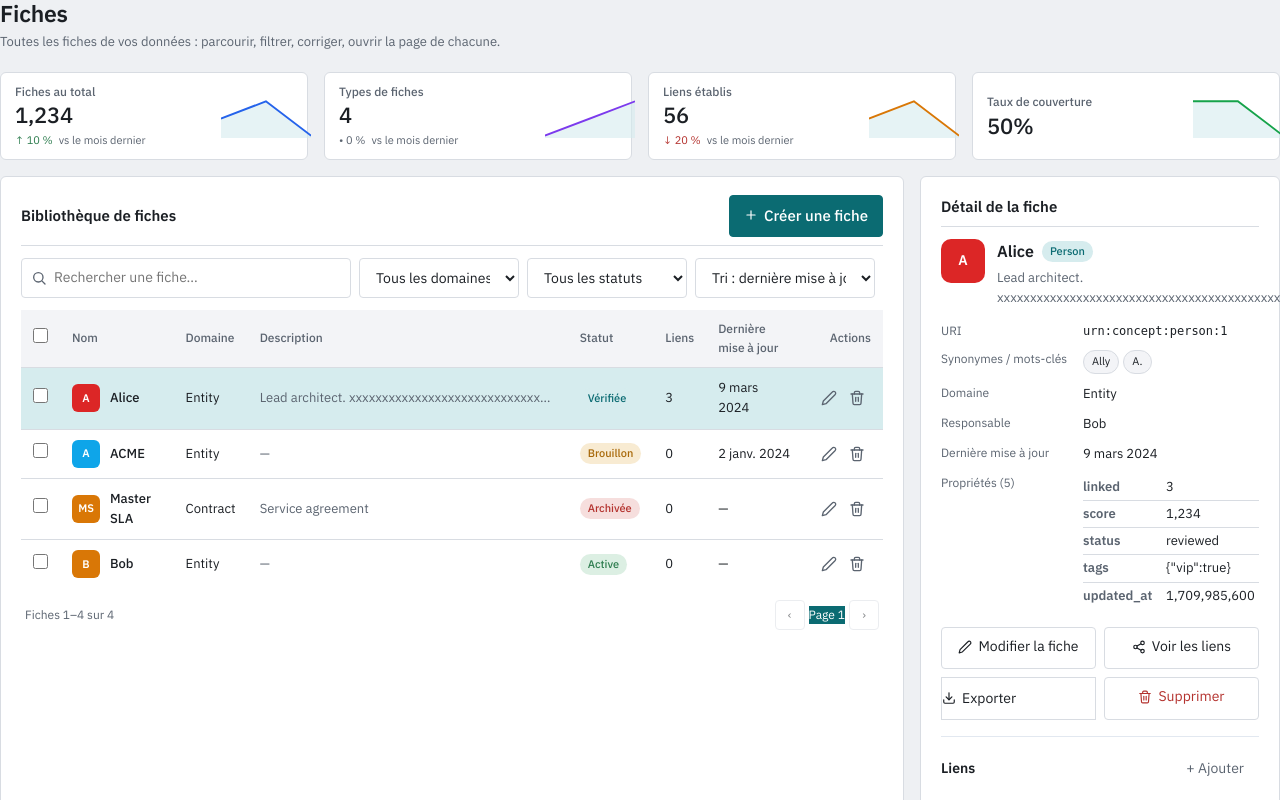
Test case: Concepts page — selection and bulk delete › bulk-deletes the ticked concepts only after confirmation, then refreshes the list
Expected: the text "Alice" is shown, [110,388,140,408]
Click the checkbox named "Sélectionner la fiche Alice": (40, 395) [33,388,48,403]
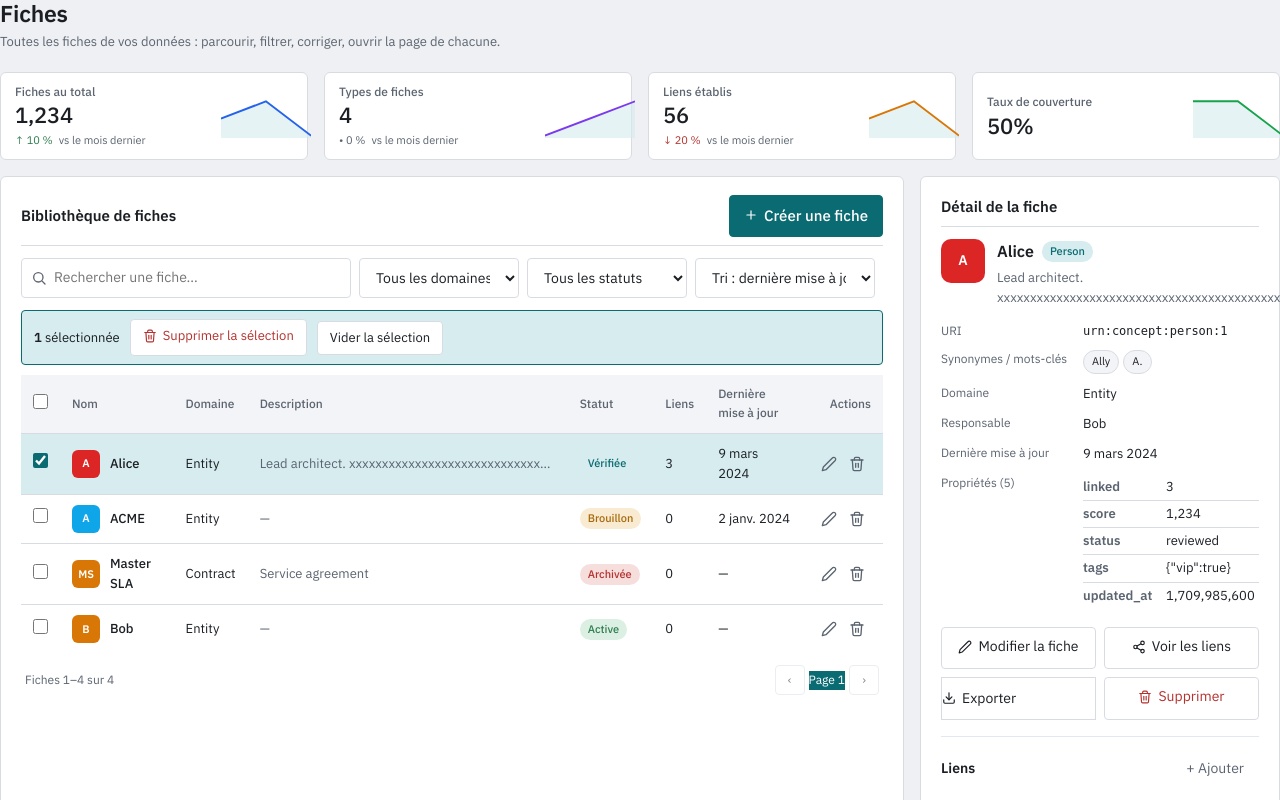
Click the checkbox named "Sélectionner la fiche ACME": (40, 516) [33,508,48,523]
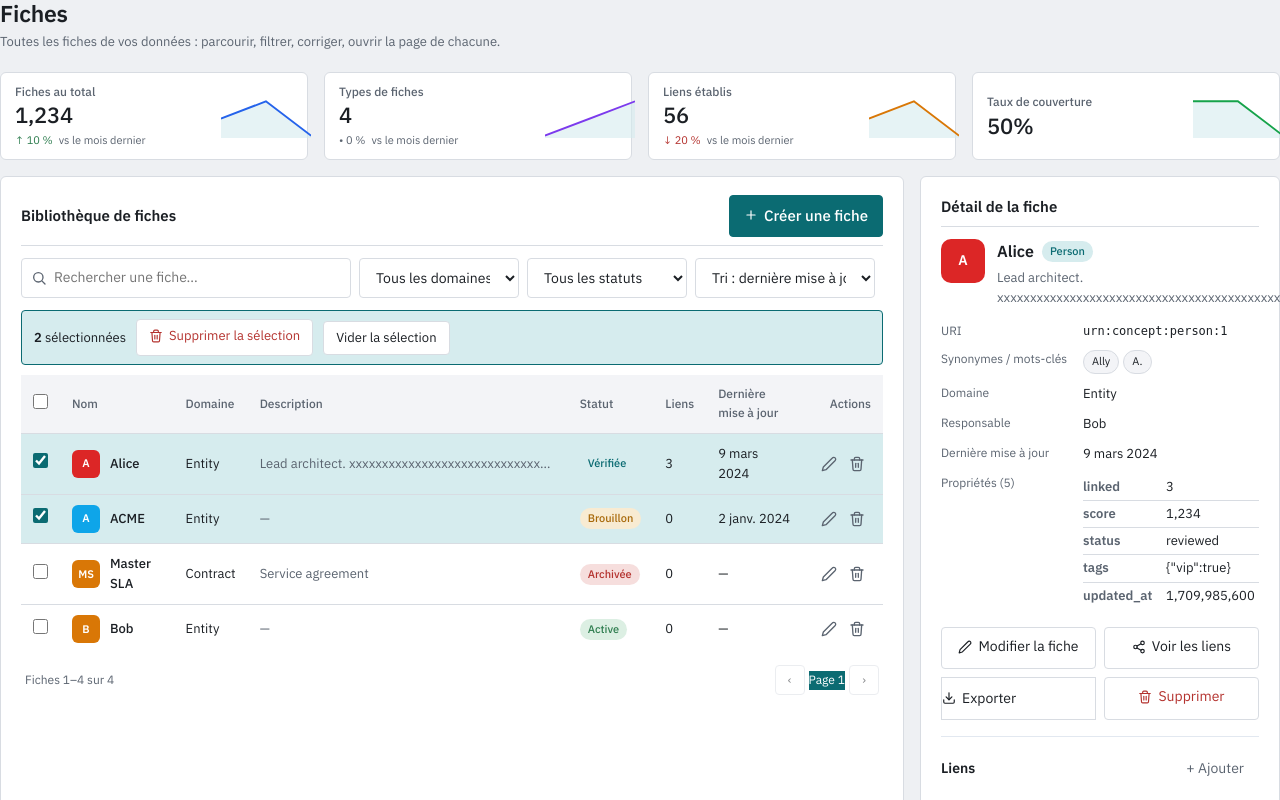
Click the button "Supprimer la sélection": (225, 338) [136,319,313,356]
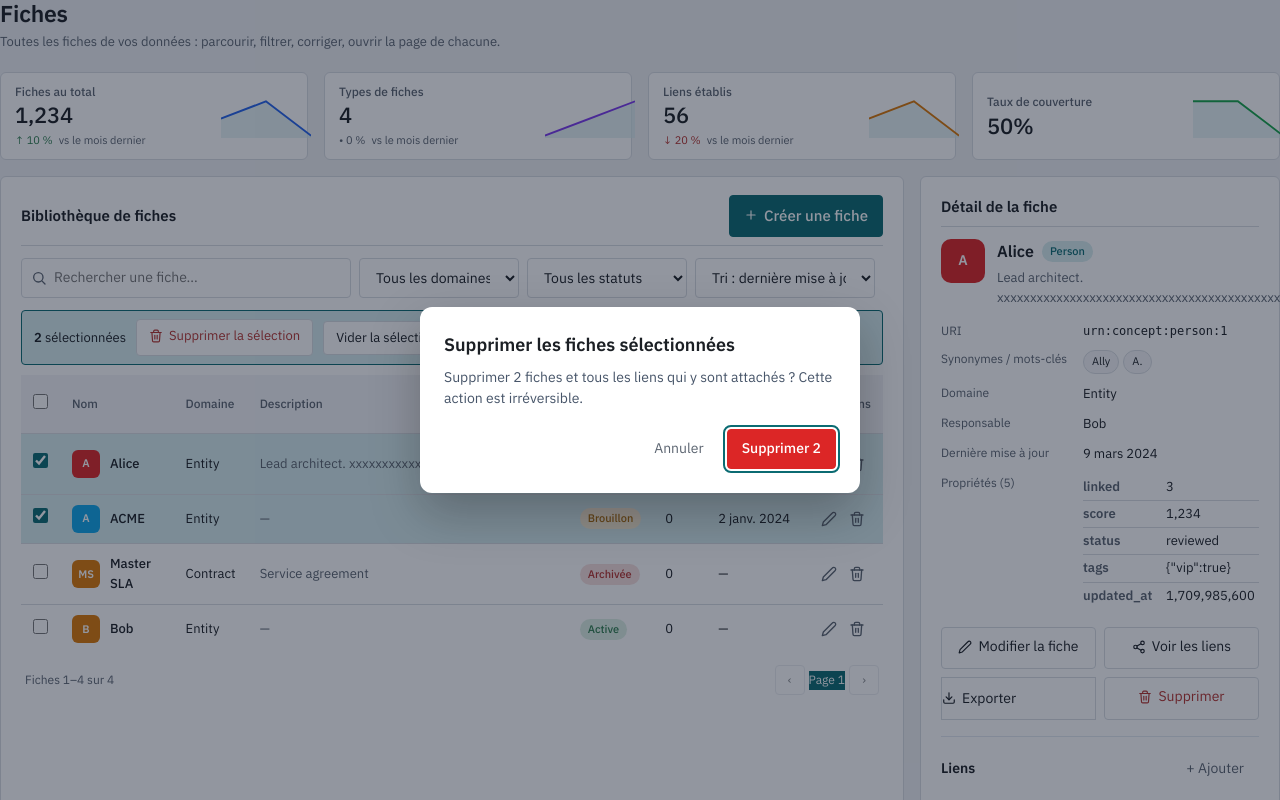
Now the heading "Supprimer les fiches sélectionnées" is shown, box [444,333,735,356]
Now the text "Supprimer 2 fiches et tous les liens qui y sont attachés ? Cette action est irréversible." is shown, box [444,368,832,407]
Click the button "Annuler": (679, 449) [639,429,719,469]
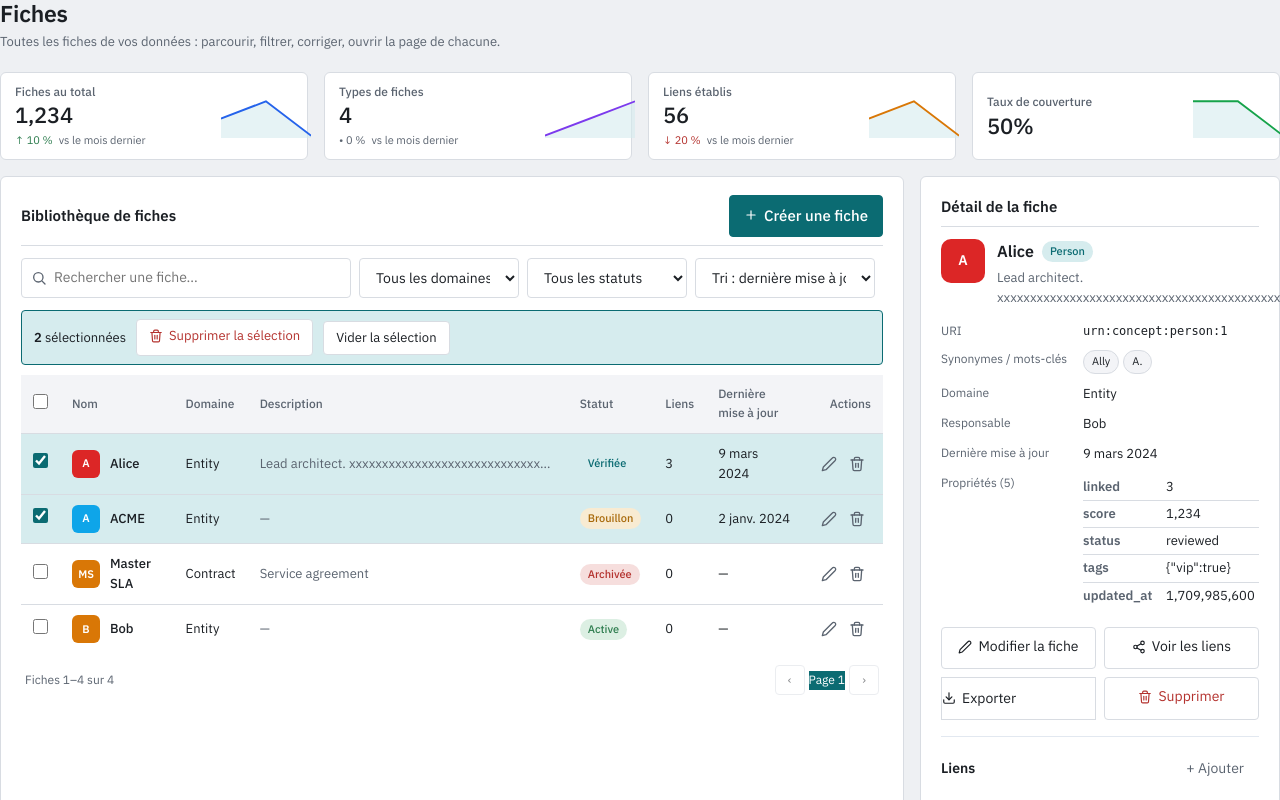
Click the button "Supprimer la sélection": (225, 338) [136,319,313,356]
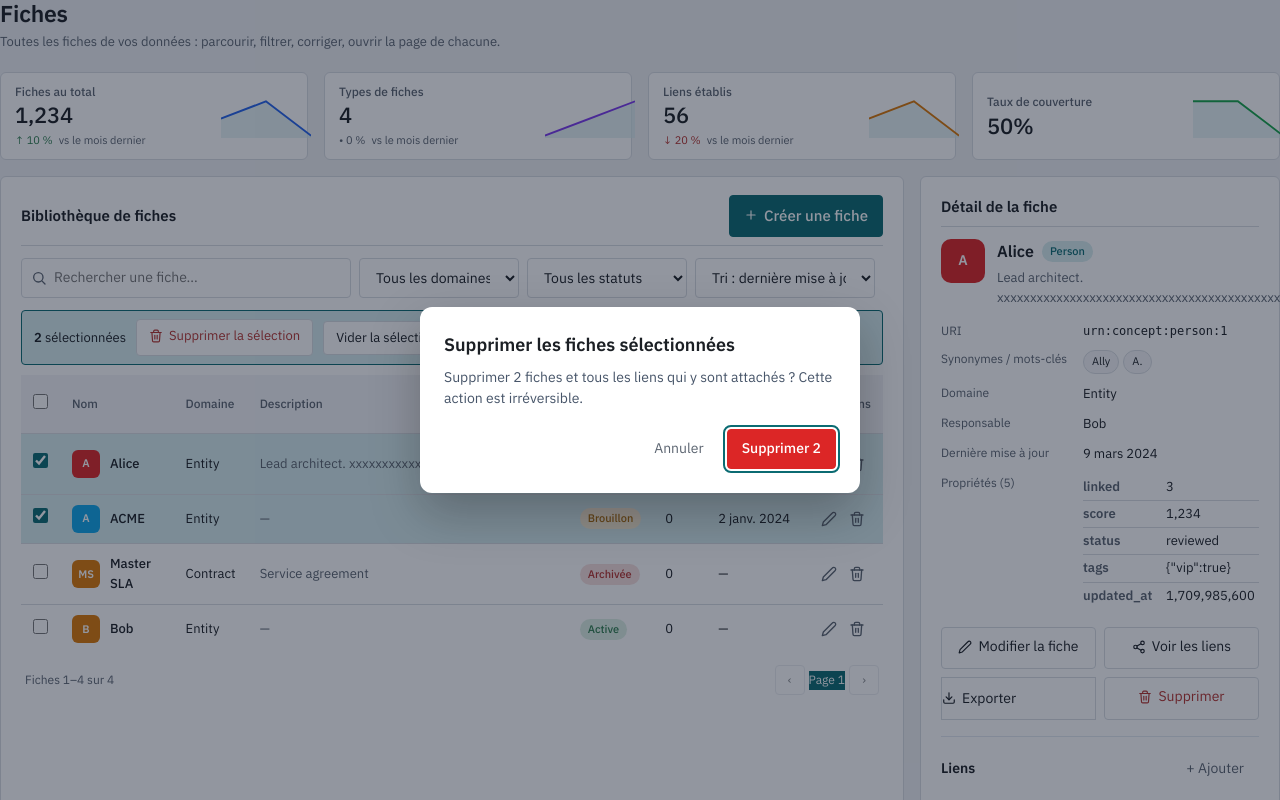
Click the button "Supprimer 2": (781, 449) [727,429,836,469]
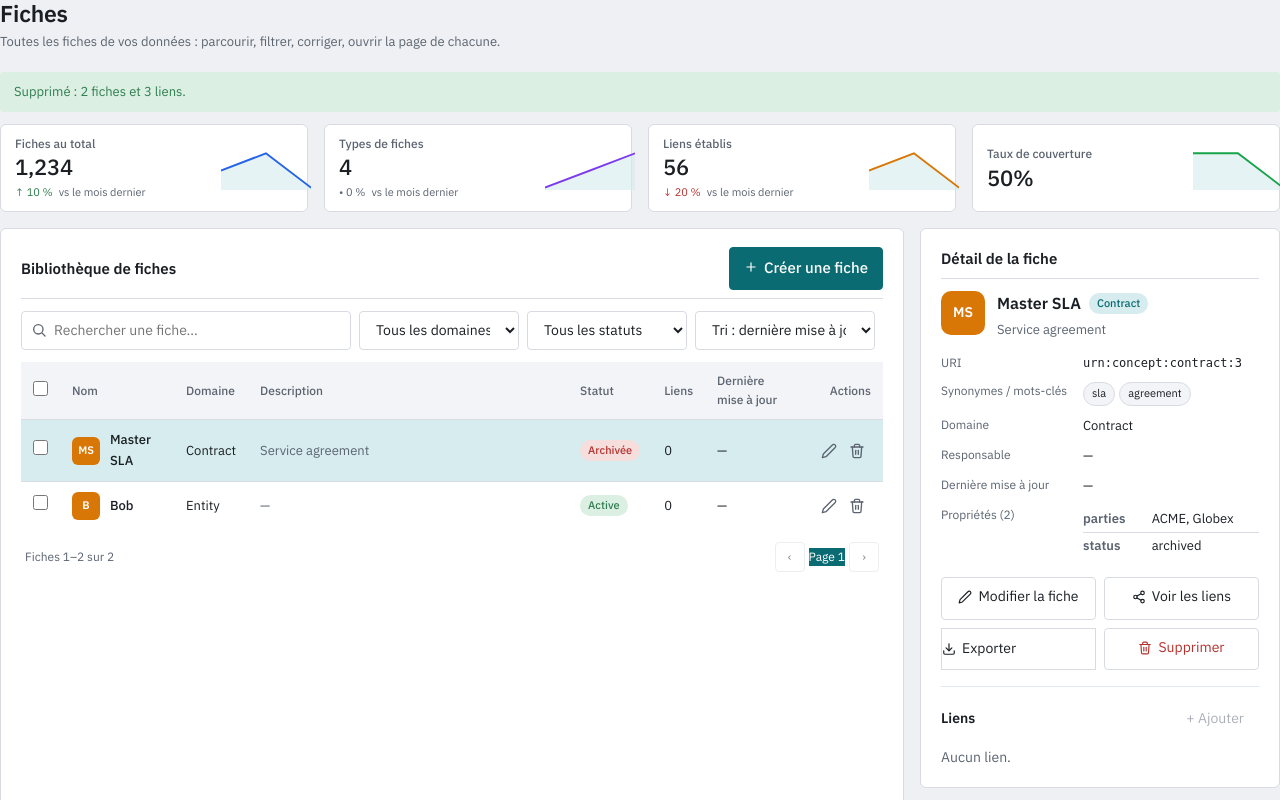
Now the text "Supprimé : 2 fiches et 3 liens." is shown, box [0,72,1279,112]
Now the text "Fiches 1–2 sur 2" is shown, box [25,548,114,566]
Now the heading "Master SLA" is shown, box [997,291,1081,316]
